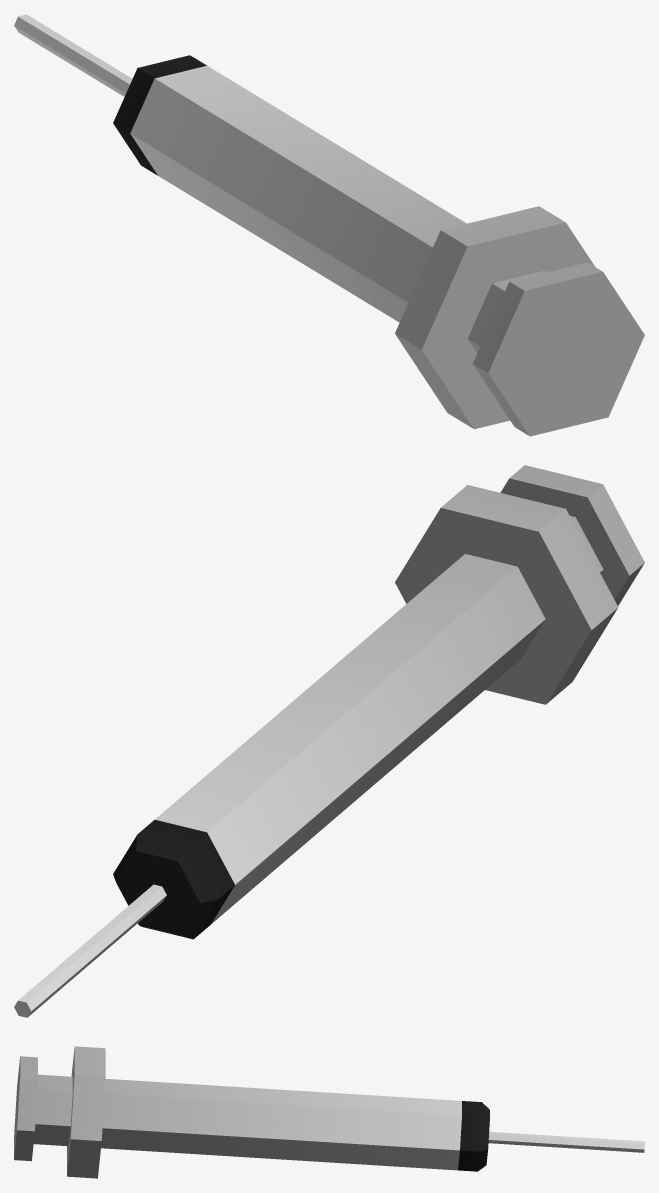
File: siringa.fbx
3 views of the same model, one above another, from view 1: azimuth 30°, elevation 25°; view 2: azimuth 150°, elevation 25°; view 3: azimuth 270°, elevation 25° (orthographic). The views are drawn at different scales.
Visible parts, largest first — view 1: siringa; view 2: siringa; view 3: siringa.
Part boxes in pixels (bbox=[...]): siringa: bbox=[14, 14, 644, 436]; siringa: bbox=[14, 465, 644, 1017]; siringa: bbox=[14, 1046, 644, 1178].
Size of the model in its own units: 8.44 by 7.43 by 40.61.
